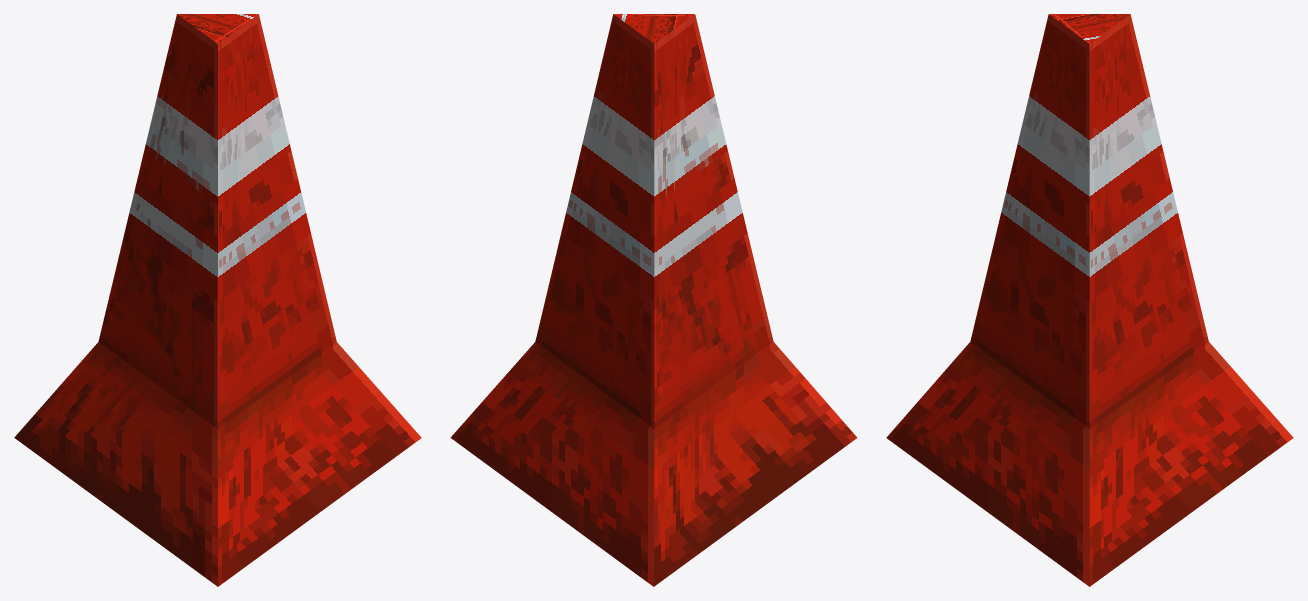
Rendered from Road_Cone.glb.
3 views of the same model, side by side, from view 1: azimuth 30°, elevation 25°; view 2: azimuth 150°, elevation 25°; view 3: azimuth 270°, elevation 25° (orthographic).
Visible parts, largest first — view 1: ROAD_CONE; view 2: ROAD_CONE; view 3: ROAD_CONE.
Boxes of the visible parts, <box> form: ROAD_CONE: <box>14,14,421,586</box>; ROAD_CONE: <box>450,14,857,586</box>; ROAD_CONE: <box>886,14,1293,586</box>.
Bounding box in the file's own units: 0.482 × 0.699 × 0.557.
1 material, 1 textured.
